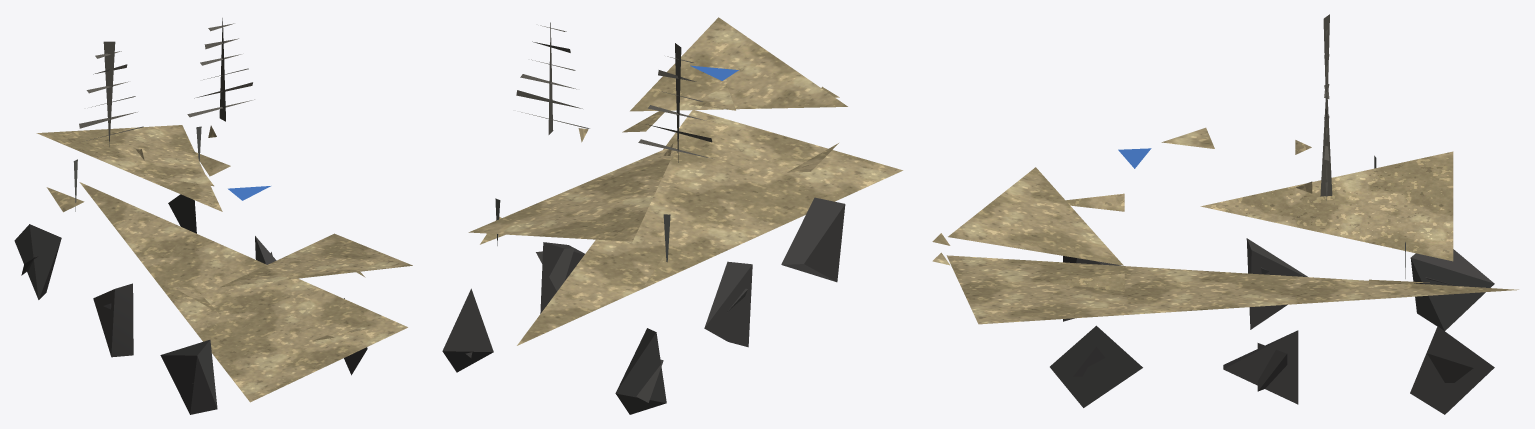
The model's file is ewj_e4_us_jammer_LOD2.glb.
3 views of the same model, side by side, from view 1: azimuth 30°, elevation 25°; view 2: azimuth 150°, elevation 25°; view 3: azimuth 270°, elevation 25° (orthographic). The views are drawn at different scales.
Visible parts, largest first — view 1: ewj_e4_us_jammer_LOD2_body, ewj_e4_us_jammer_LOD2_track, ewj_e4_us_jammer_LOD2_deck; view 2: ewj_e4_us_jammer_LOD2_body, ewj_e4_us_jammer_LOD2_track, ewj_e4_us_jammer_LOD2_deck; view 3: ewj_e4_us_jammer_LOD2_body, ewj_e4_us_jammer_LOD2_track, ewj_e4_us_jammer_LOD2_deck.
Part boxes in pixels (x1,y1,x2,y2): ewj_e4_us_jammer_LOD2_body: (36,125,412,402); ewj_e4_us_jammer_LOD2_track: (14,194,367,414); ewj_e4_us_jammer_LOD2_deck: (79,18,254,146); ewj_e4_us_jammer_LOD2_body: (468,17,903,345); ewj_e4_us_jammer_LOD2_track: (442,197,845,414); ewj_e4_us_jammer_LOD2_deck: (516,22,712,162); ewj_e4_us_jammer_LOD2_body: (932,127,1518,324); ewj_e4_us_jammer_LOD2_track: (1050,238,1494,414); ewj_e4_us_jammer_LOD2_deck: (1320,14,1332,200).
Size of the model in its own units: 3.05 by 4.61 by 7.67.
Materials: 5 (1 with a texture image).
